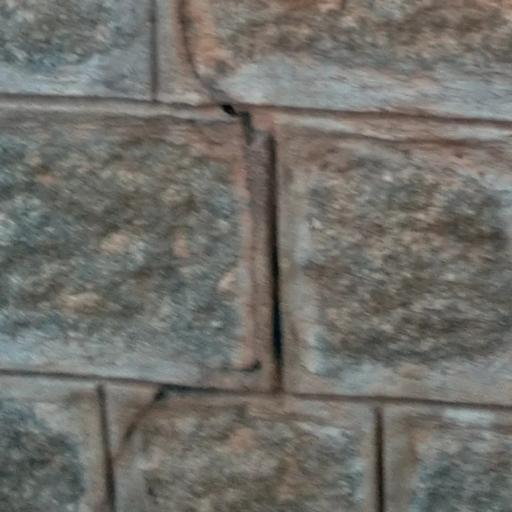major_crack: (164, 3, 316, 434), (91, 380, 191, 472)
